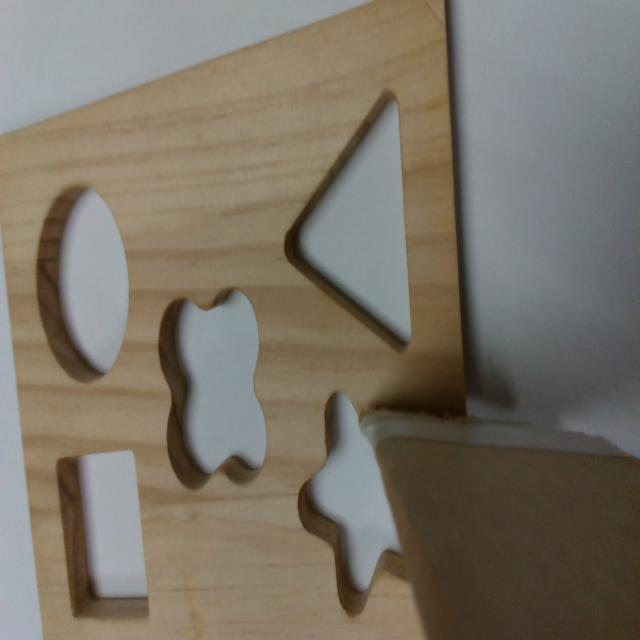circle: (37, 185, 131, 383)
flower: (155, 286, 266, 496)
square: (56, 448, 148, 619)
star: (300, 386, 410, 612)
triangle: (287, 89, 414, 354)
